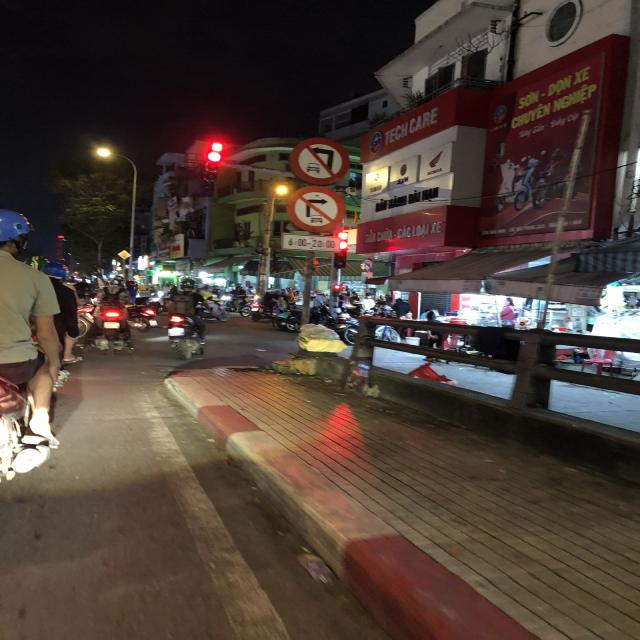Bien bao cam xe o to re phai: (279, 184, 355, 235)
Bien bao cam xe o to re trai: (284, 134, 360, 187)
